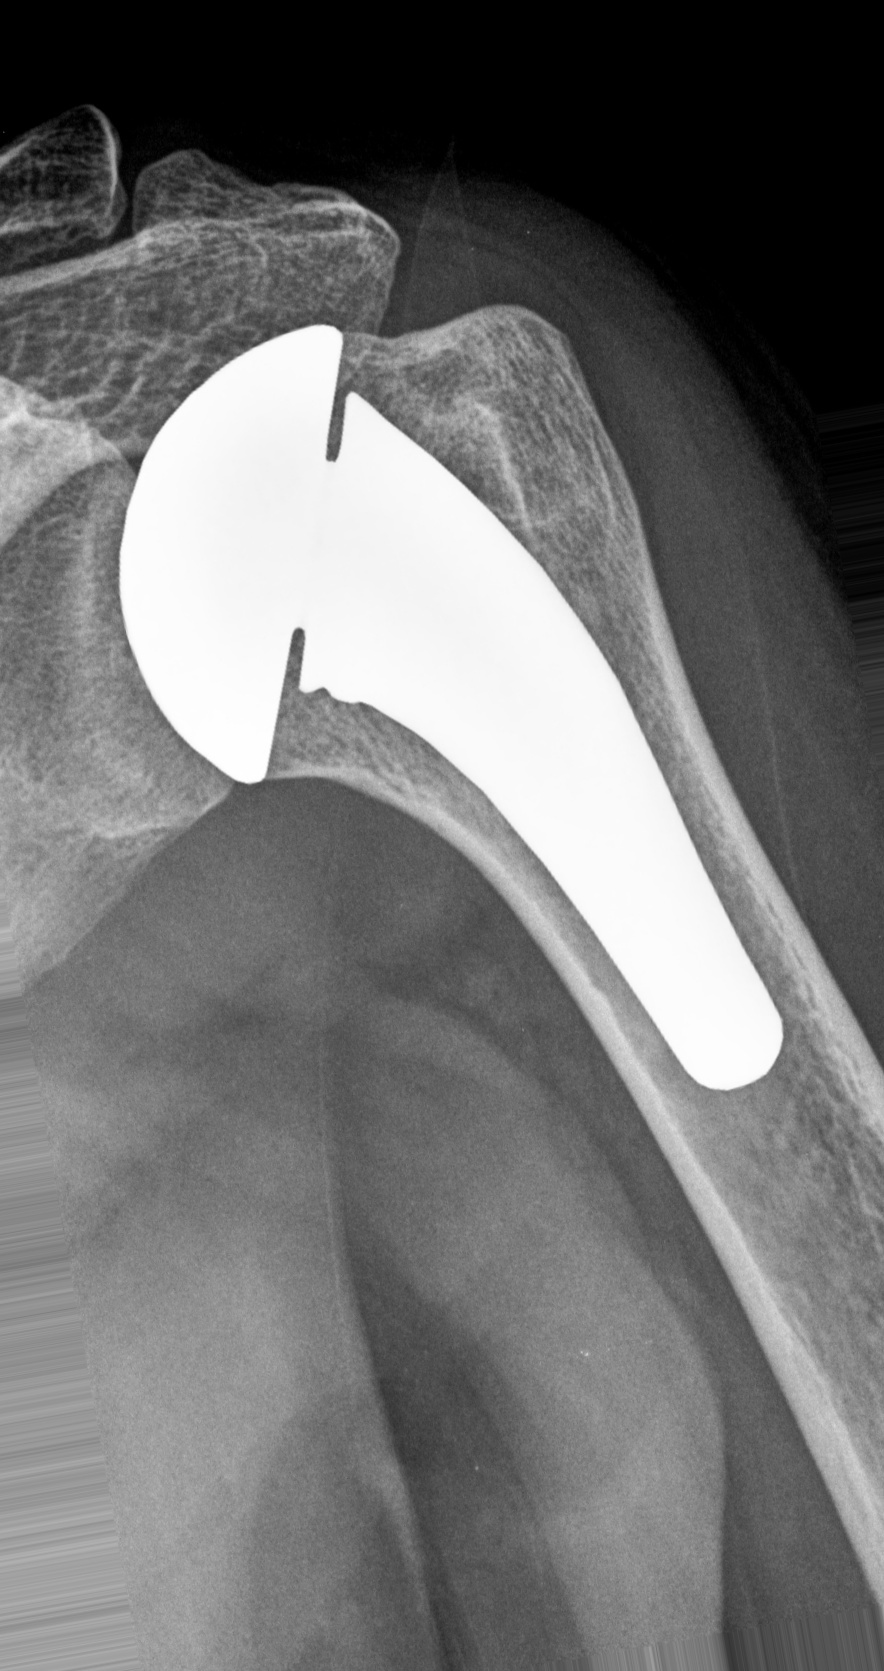Shoulder - AequalisAscendFlex - Tornier: (103, 311, 358, 792)
